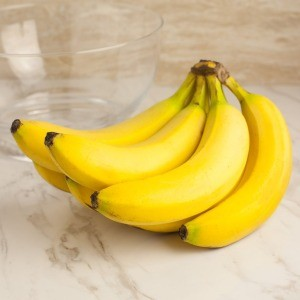banana_brain food: (95, 87, 252, 227)
